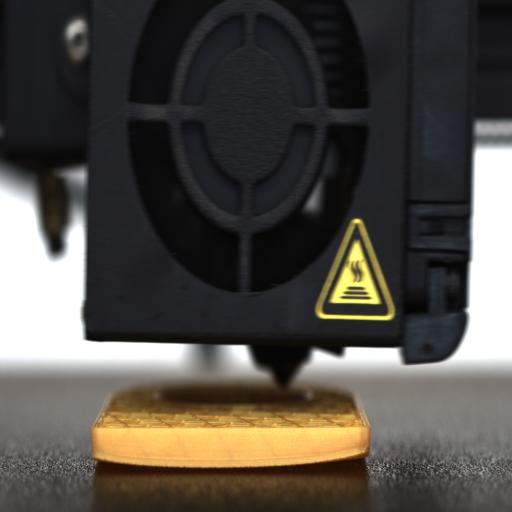warp: (316, 438, 371, 468), (91, 447, 135, 472)
